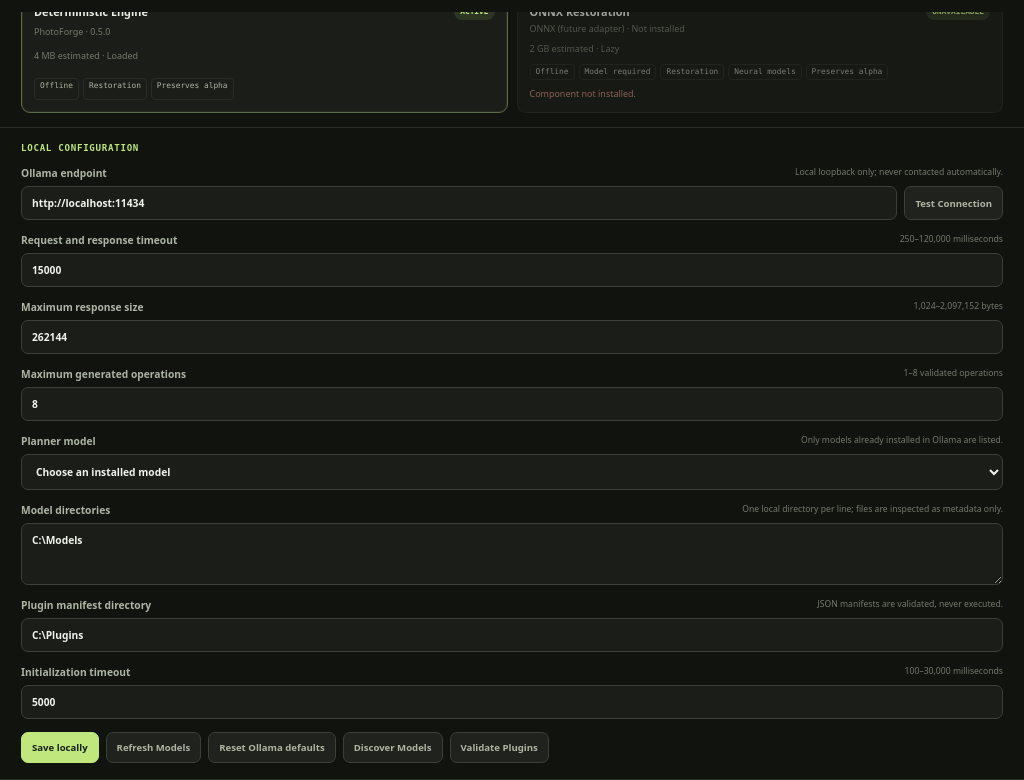
Test: ComponentsSettings › shows discovered model metadata as unavailable
(page scrolled)
Click the button "Discover Models".
click(393, 748)  # box [343,732,443,763]
(page scrolled)
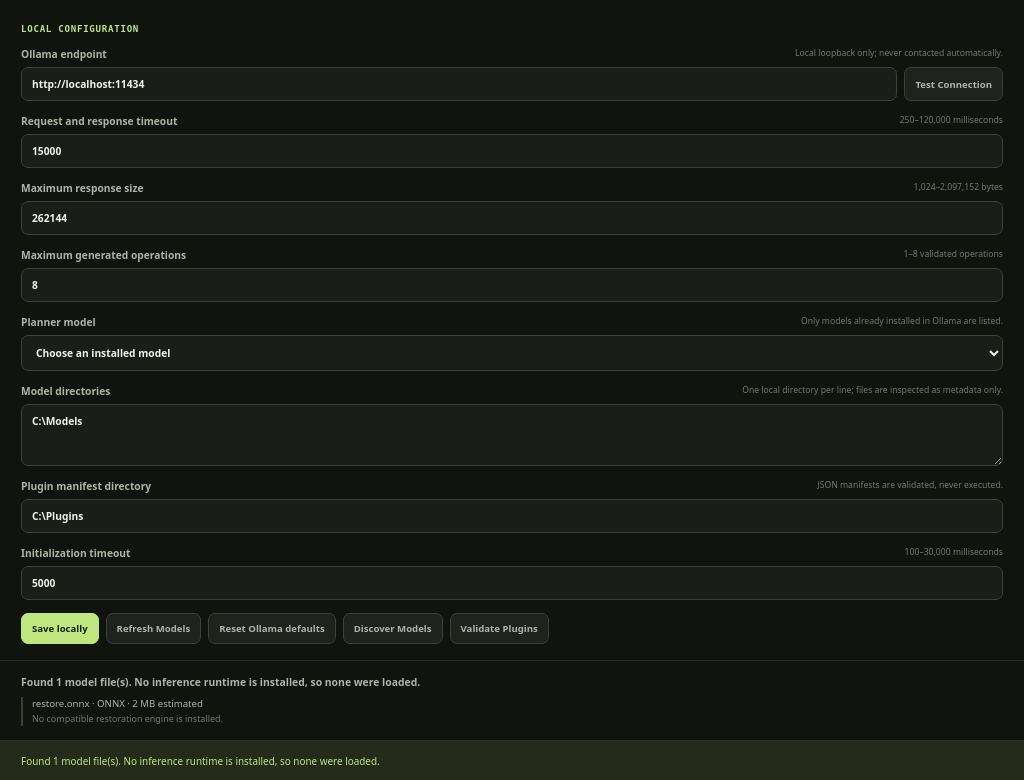
Now the text "restore.onnx · ONNX · 2 MB estimated" is shown, box [32,697,203,710]
Now the text "No compatible restoration engine is installed." is shown, box [32,712,223,725]
